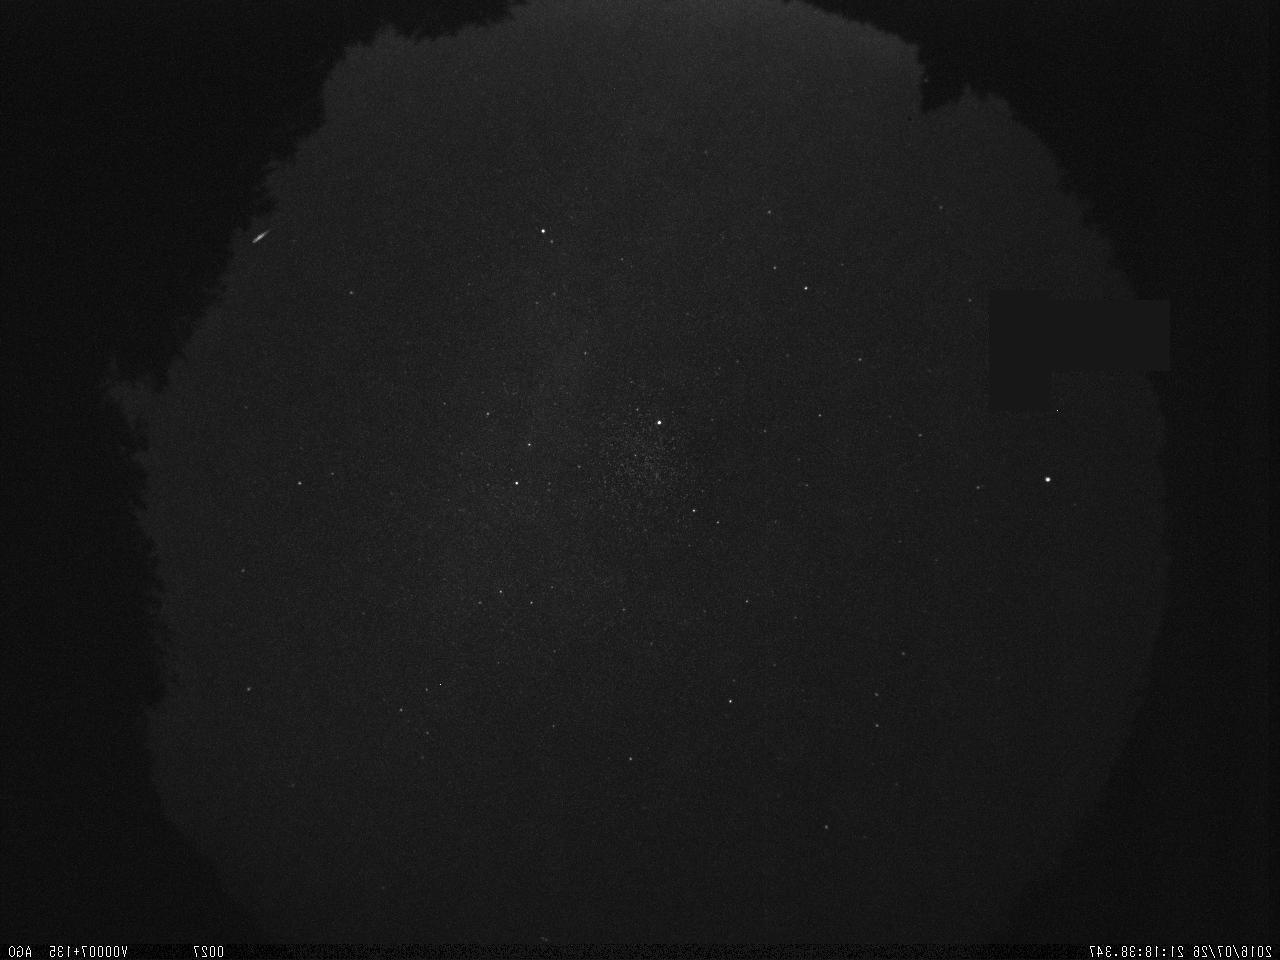meteor: (235, 214, 284, 259)
